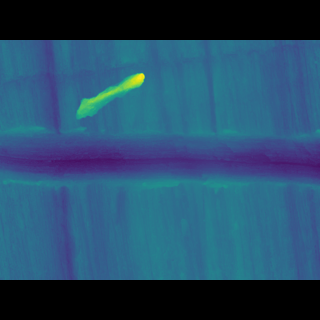Loch: (0, 129, 320, 187), (71, 93, 148, 130)
